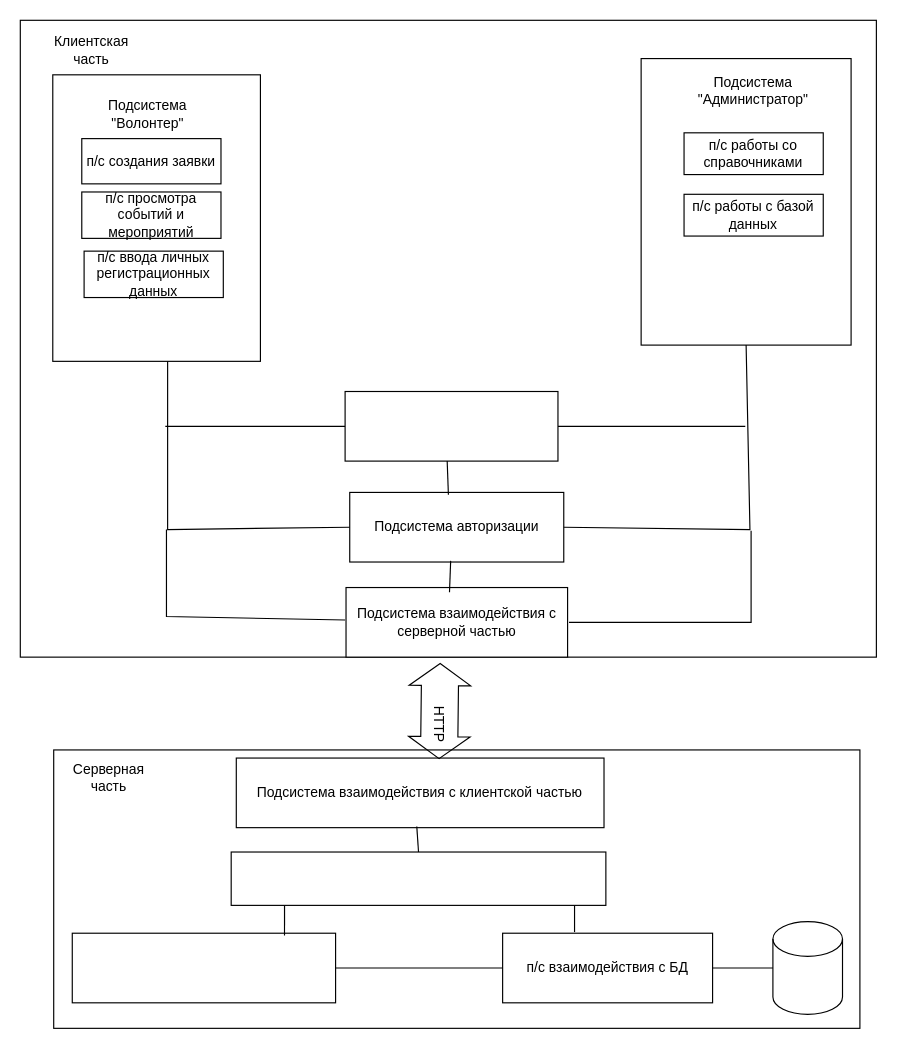
Image size: 897x1049. Some labels were removed from this diagram. The shapes that lost their labels are listed below. From the top down, each one's centre as x and y in pixels, then its label:
(451,425): Справочная подсистема
(418,878): п/с обработки заявок волонетров
(203,967): п/с аунтефикации
(807,967): БД
